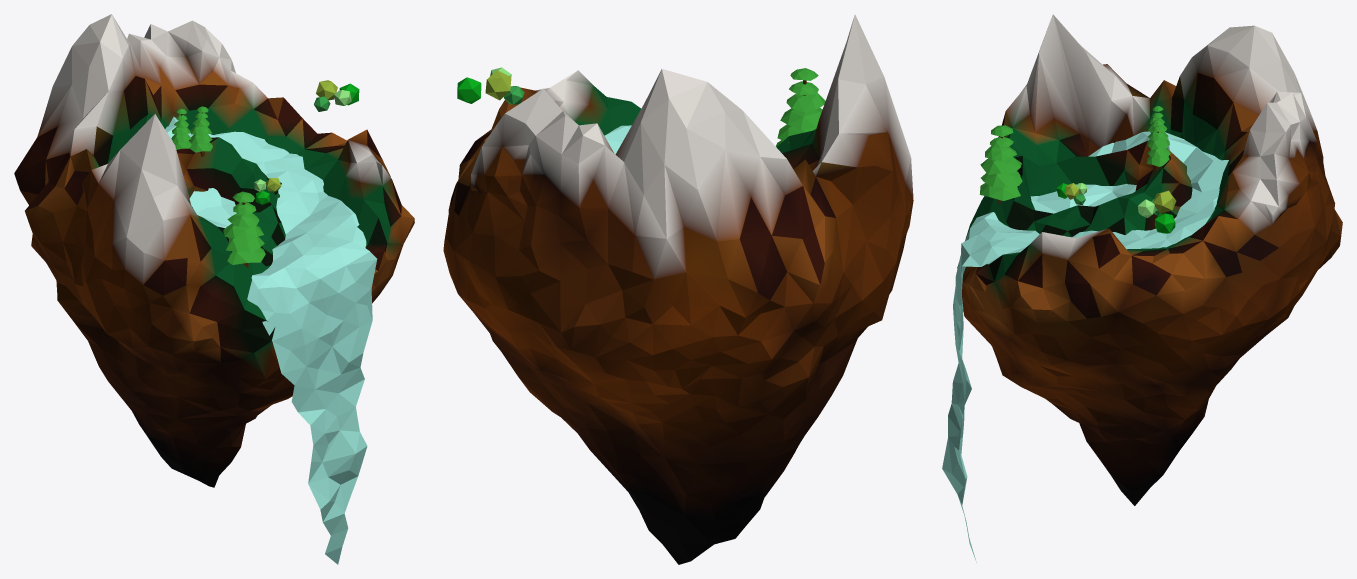
Rendered from island.glb.
3 renders of one model, left to right at view 1: azimuth 30°, elevation 25°; view 2: azimuth 150°, elevation 25°; view 3: azimuth 270°, elevation 25°, orthographic. The views are drawn at different scales.
Visible parts, largest first — view 1: Icosphere, Plane.001, Icosphere.011; view 2: Icosphere, Icosphere.011, Icosphere.001; view 3: Icosphere, Plane.001, Icosphere.011, Icosphere.010, Icosphere.009.
Part boxes in pixels (bbox=[...]): Icosphere: bbox=[14, 14, 414, 487]; Plane.001: bbox=[165, 116, 377, 564]; Icosphere.011: bbox=[223, 223, 263, 242]; Icosphere: bbox=[443, 14, 913, 564]; Icosphere.011: bbox=[780, 108, 822, 129]; Icosphere.001: bbox=[485, 70, 511, 100]; Icosphere: bbox=[957, 14, 1342, 505]; Plane.001: bbox=[942, 131, 1228, 562]; Icosphere.011: bbox=[980, 157, 1021, 174]; Icosphere.010: bbox=[981, 171, 1022, 187]; Icosphere.009: bbox=[979, 183, 1020, 200].
Bounding box in the file's own units: 19.71 × 28.09 × 20.71.
